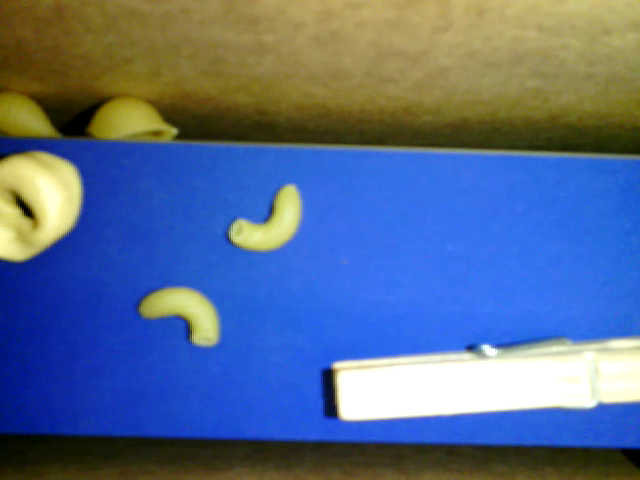elbow: (227, 179, 304, 253), (136, 283, 219, 348)
shell: (85, 95, 181, 142), (1, 85, 68, 139)
tortellini: (1, 151, 77, 259)
